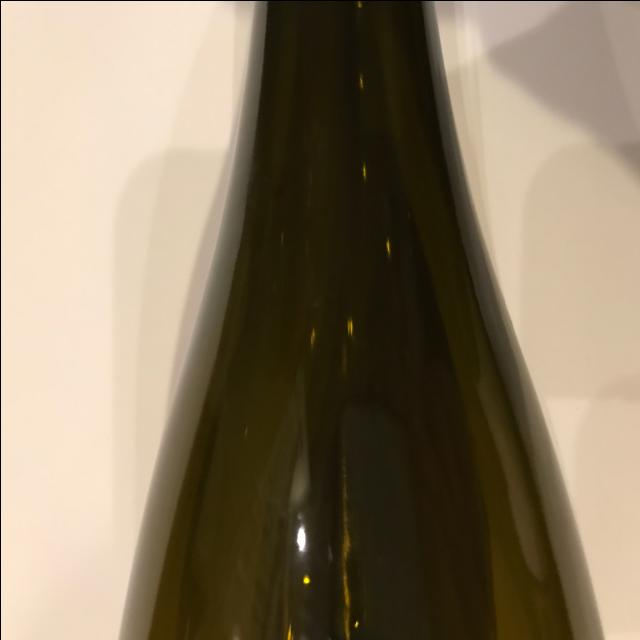glass: (118, 0, 608, 640)
